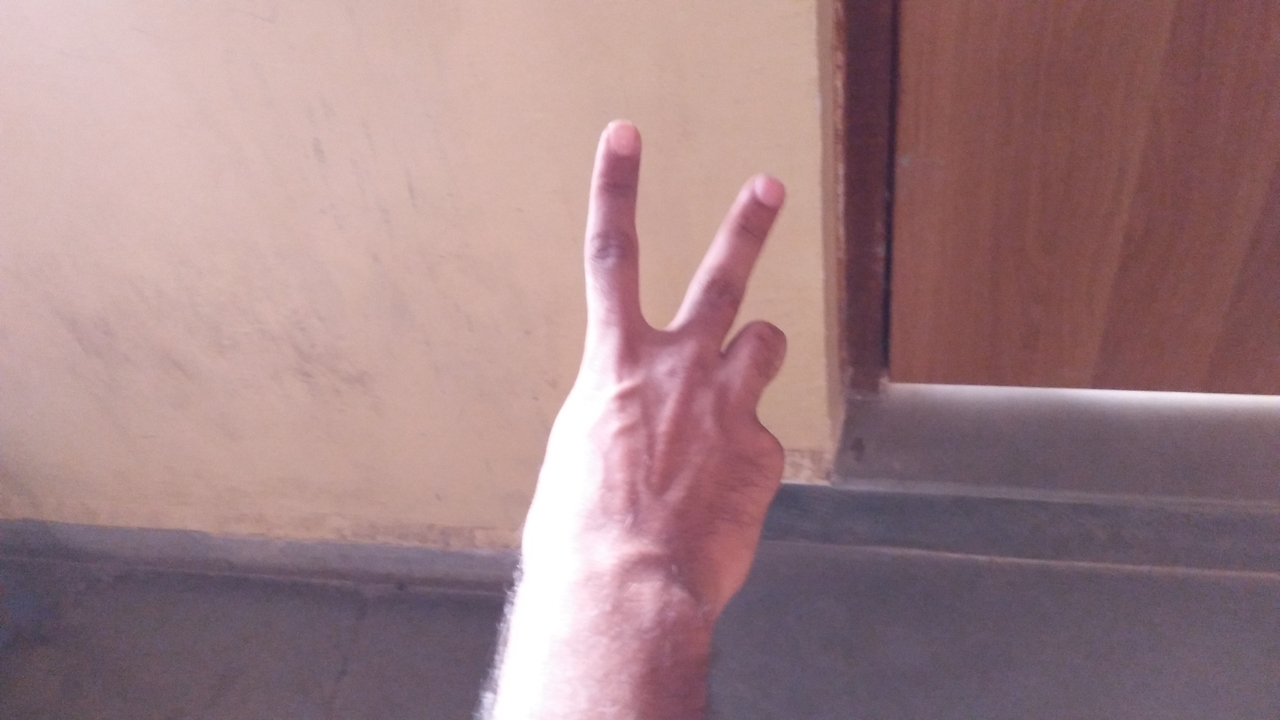fingertip: (730, 162, 792, 220), (588, 112, 644, 168)
